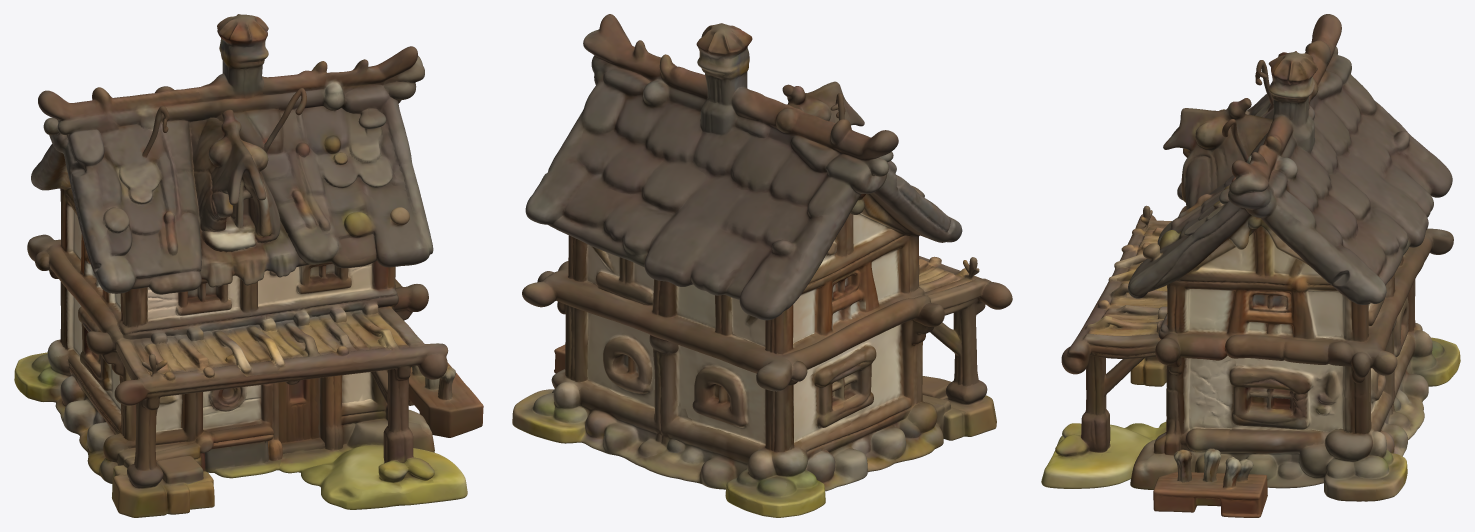
File: village_building_03_lod0.glb
The picture shows the model from 3 angles, left to right: view 1: azimuth 30°, elevation 25°; view 2: azimuth 150°, elevation 25°; view 3: azimuth 270°, elevation 25°; orthographic projection. The views are drawn at different scales.
Visible parts, largest first — view 1: tripo_node_8a496feb-6d8c-4070-937e-358509ef6d97.406; view 2: tripo_node_8a496feb-6d8c-4070-937e-358509ef6d97.406; view 3: tripo_node_8a496feb-6d8c-4070-937e-358509ef6d97.406.
Boxes of the visible parts, <box> form: tripo_node_8a496feb-6d8c-4070-937e-358509ef6d97.406: <box>14,14,483,517</box>; tripo_node_8a496feb-6d8c-4070-937e-358509ef6d97.406: <box>512,14,1012,517</box>; tripo_node_8a496feb-6d8c-4070-937e-358509ef6d97.406: <box>1041,14,1460,517</box>.
Bounding box in the file's own units: 0.3112 × 0.3122 × 0.3042.
1 material, 1 textured.
